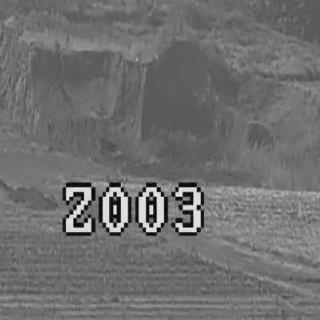other: (12, 24, 260, 182)
